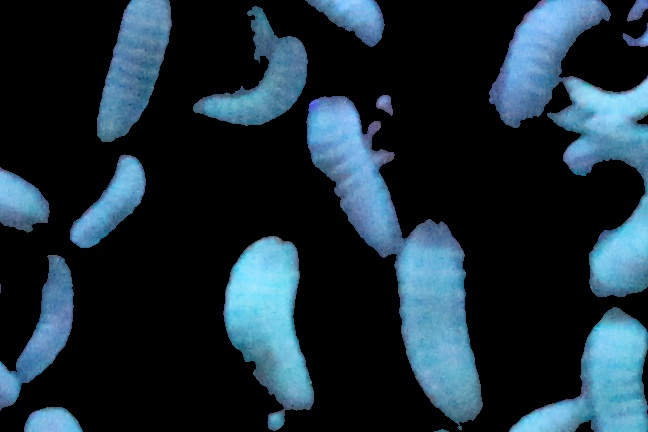larvae: (396, 218, 484, 420), (492, 1, 613, 130), (305, 94, 401, 255), (222, 236, 310, 402), (566, 122, 648, 299), (98, 1, 174, 144), (190, 38, 312, 126), (12, 254, 78, 382), (581, 307, 648, 432), (71, 153, 150, 253), (1, 163, 55, 244), (296, 1, 388, 46), (560, 72, 648, 119), (504, 396, 597, 432)
